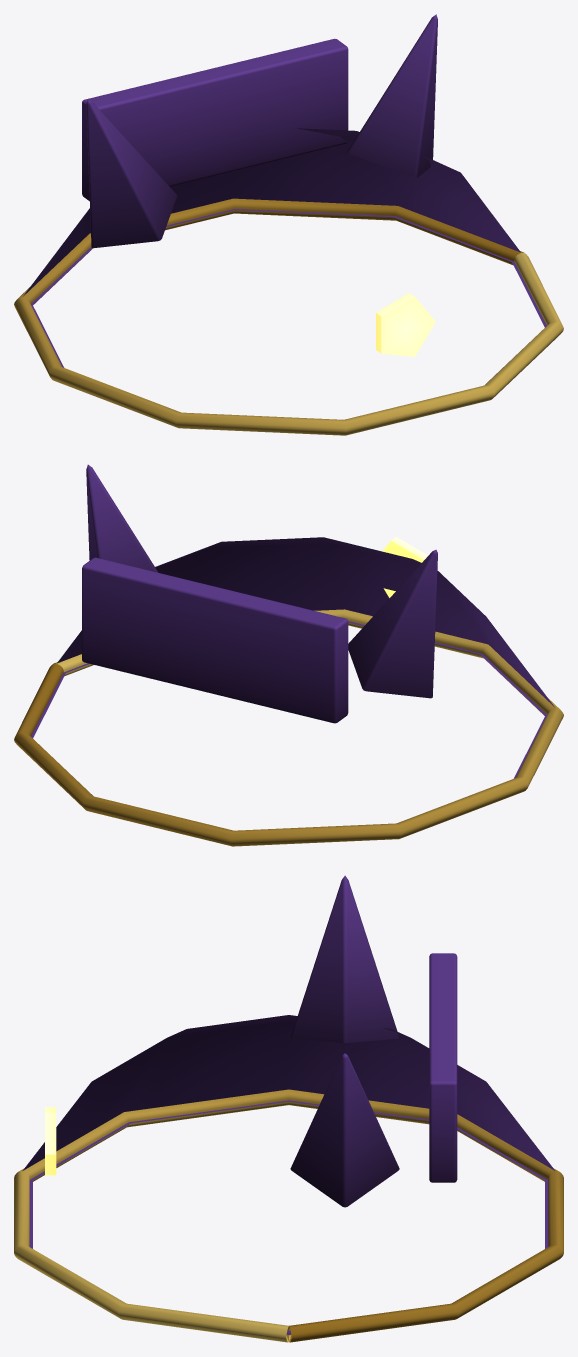
Rendered from witch_robe.glb.
3 views of the same model, one above another, from view 1: azimuth 30°, elevation 25°; view 2: azimuth 150°, elevation 25°; view 3: azimuth 270°, elevation 25° (orthographic). The views are drawn at different scales.
Visible parts, largest first — view 1: witch_robe, witch_robe_glow; view 2: witch_robe, witch_robe_glow; view 3: witch_robe, witch_robe_glow.
Part boxes in pixels (x1=…): witch_robe: x1=14, y1=14, x2=563, y2=435; witch_robe_glow: x1=376, y1=293, x2=435, y2=356; witch_robe: x1=14, y1=464, x2=563, y2=846; witch_robe_glow: x1=382, y1=537, x2=428, y2=597; witch_robe: x1=14, y1=875, x2=563, y2=1342; witch_robe_glow: x1=45, y1=1107, x2=56, y2=1175.
Bounding box in the file's own units: 2.06 × 1.02 × 1.96.
